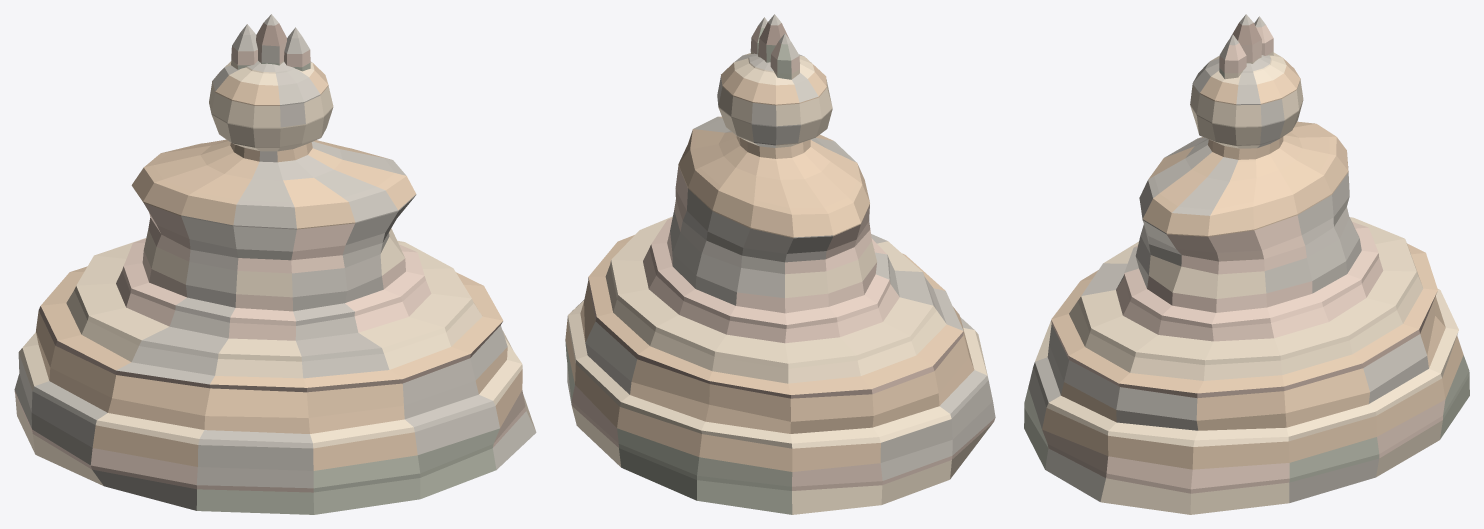
File: isalo-far.glb
The picture shows the model from 3 angles, left to right: view 1: azimuth 30°, elevation 25°; view 2: azimuth 150°, elevation 25°; view 3: azimuth 270°, elevation 25°; orthographic projection. The views are drawn at different scales.
Parts seen in each view (by area): view 1: isalo_far; view 2: isalo_far; view 3: isalo_far.
Boxes of the visible parts, left/top/right/bottom form: isalo_far: left=14, top=14, right=536, bottom=514; isalo_far: left=565, top=14, right=995, bottom=514; isalo_far: left=1024, top=14, right=1469, bottom=514.
Size of the model in its own units: 12.66 by 11.58 by 11.75.
